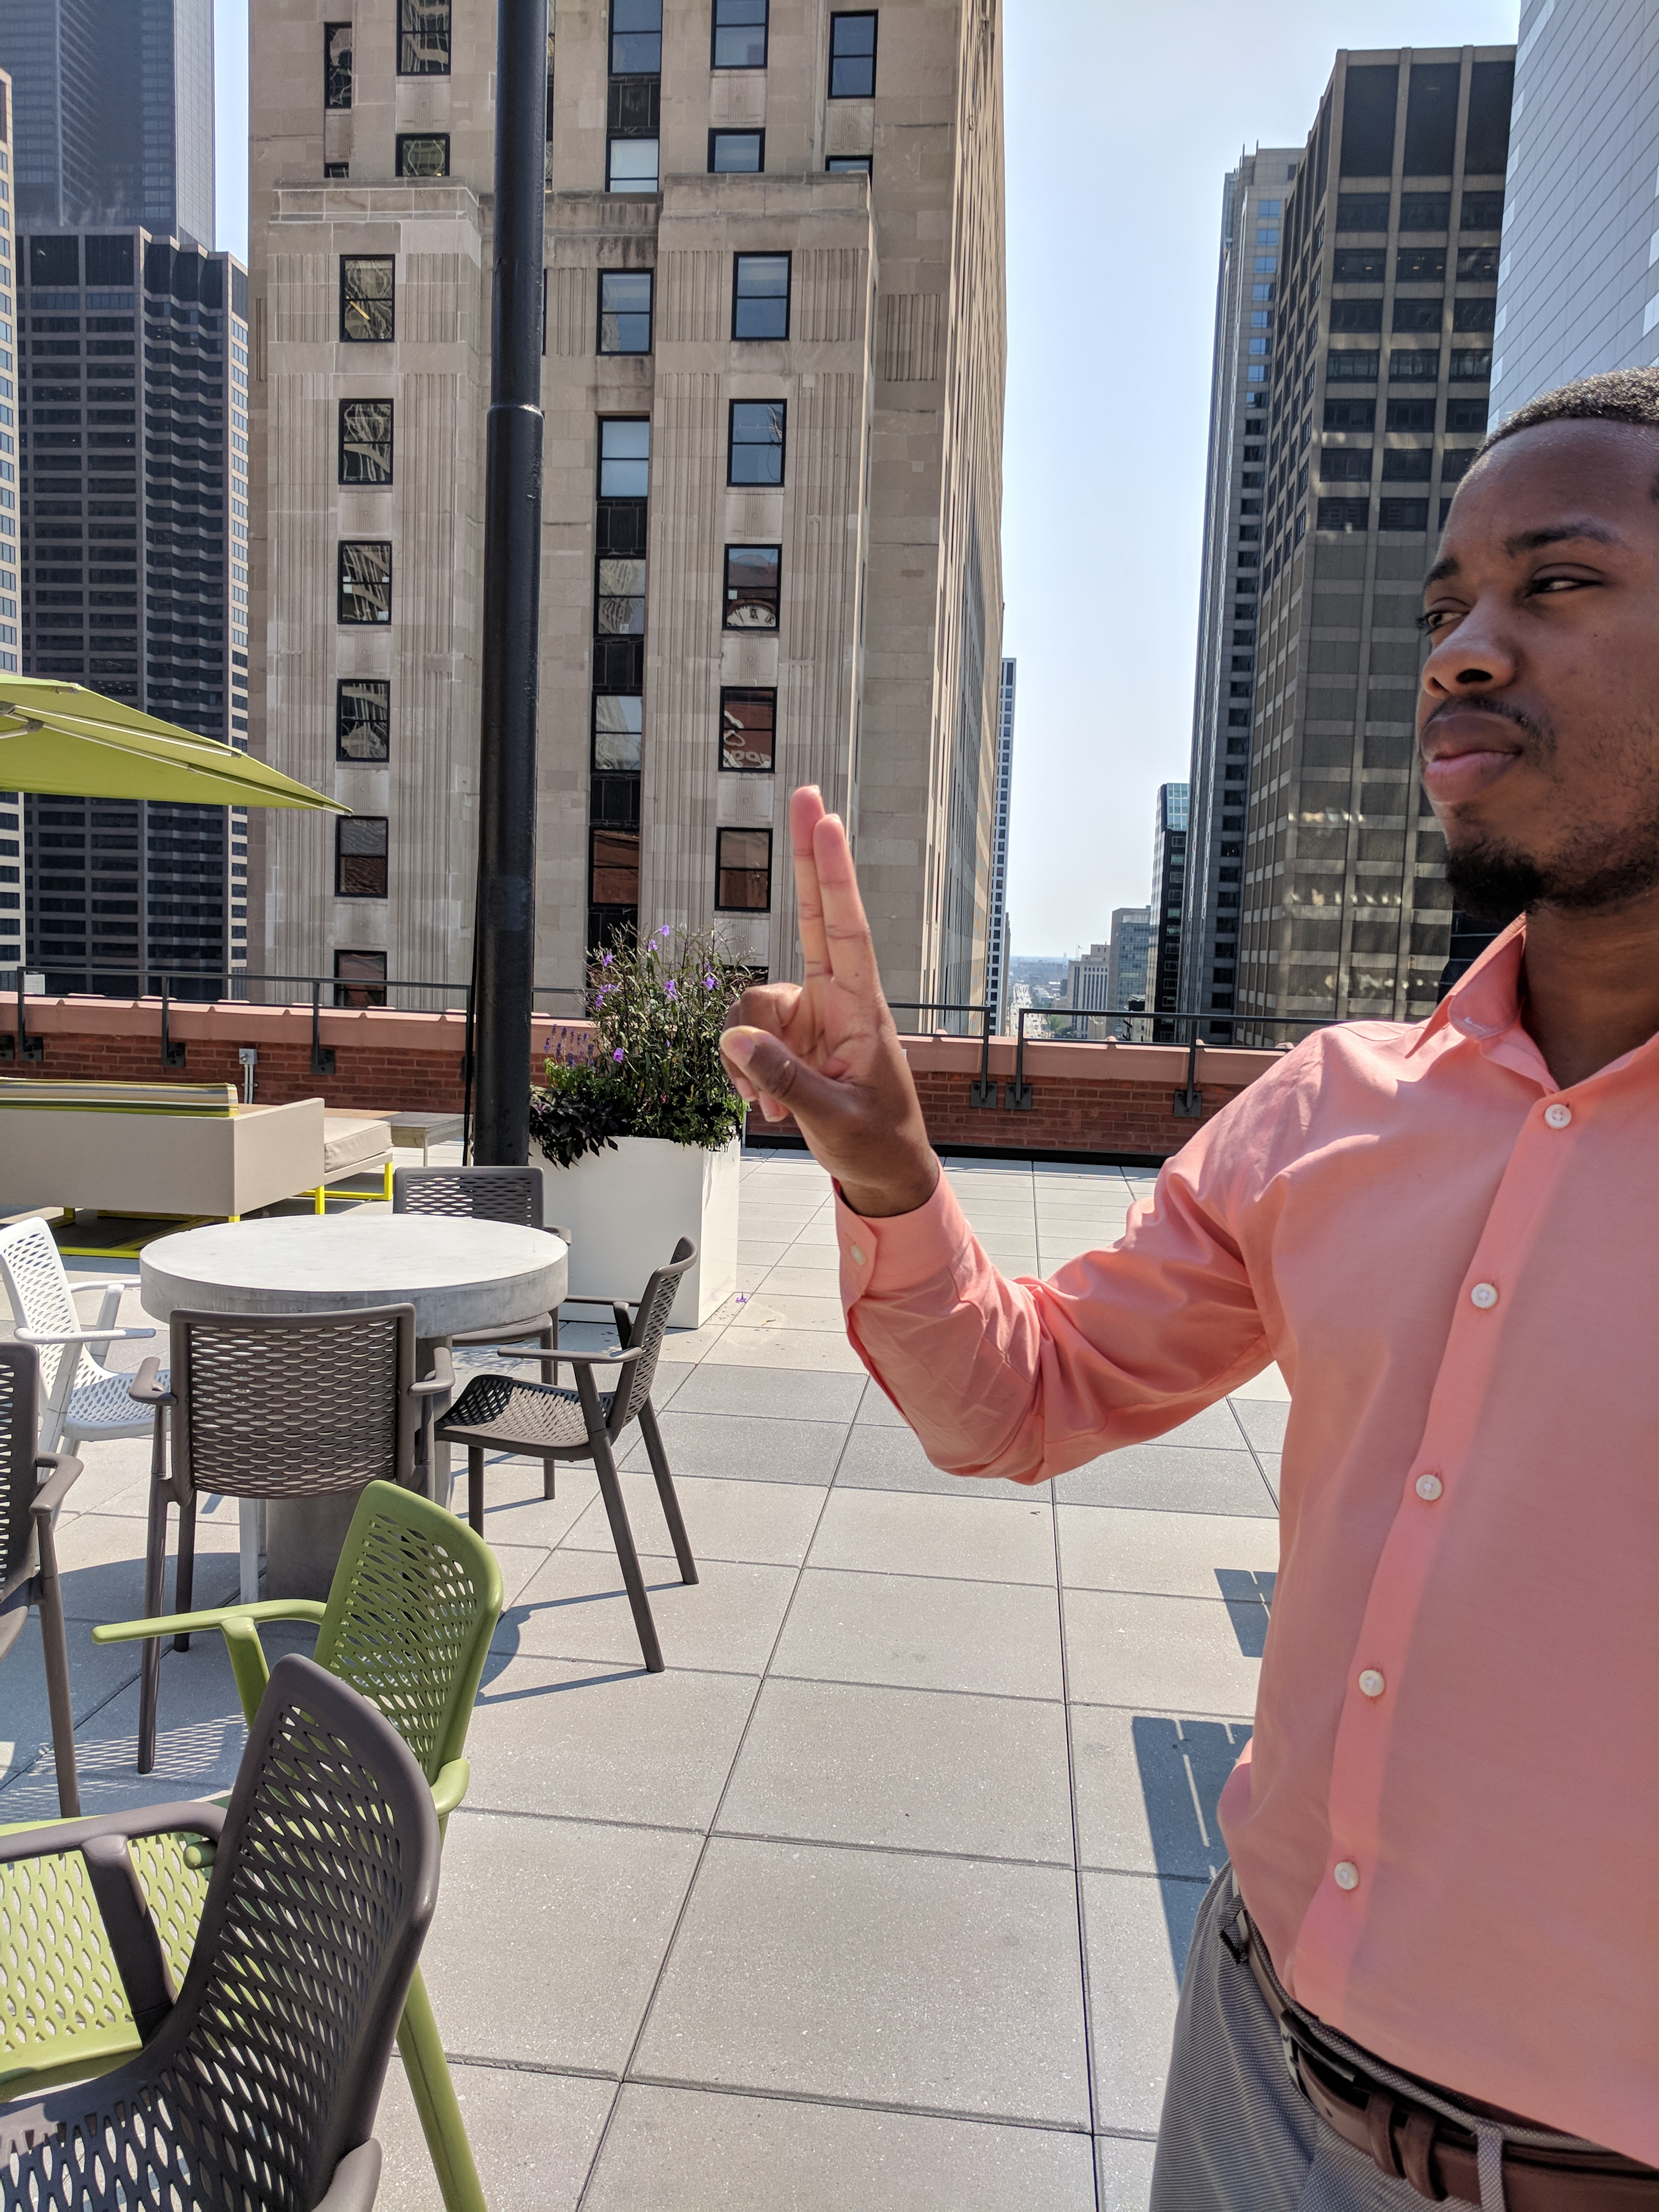u: (714, 773, 938, 1193)
